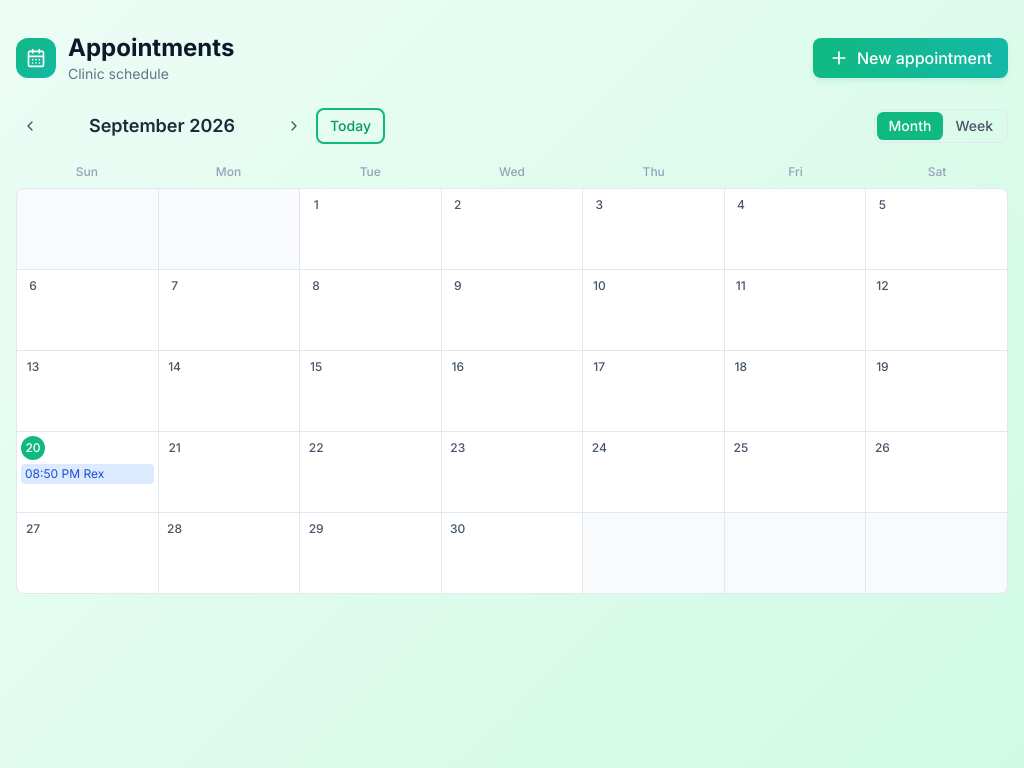
it: CalendarPage › opens the new appointment modal when New appointment is clicked
expect the heading "Appointments" is shown: met, box [68,32,234,64]
Click the button "New appointment" at point(910, 58), box [813,38,1008,78]
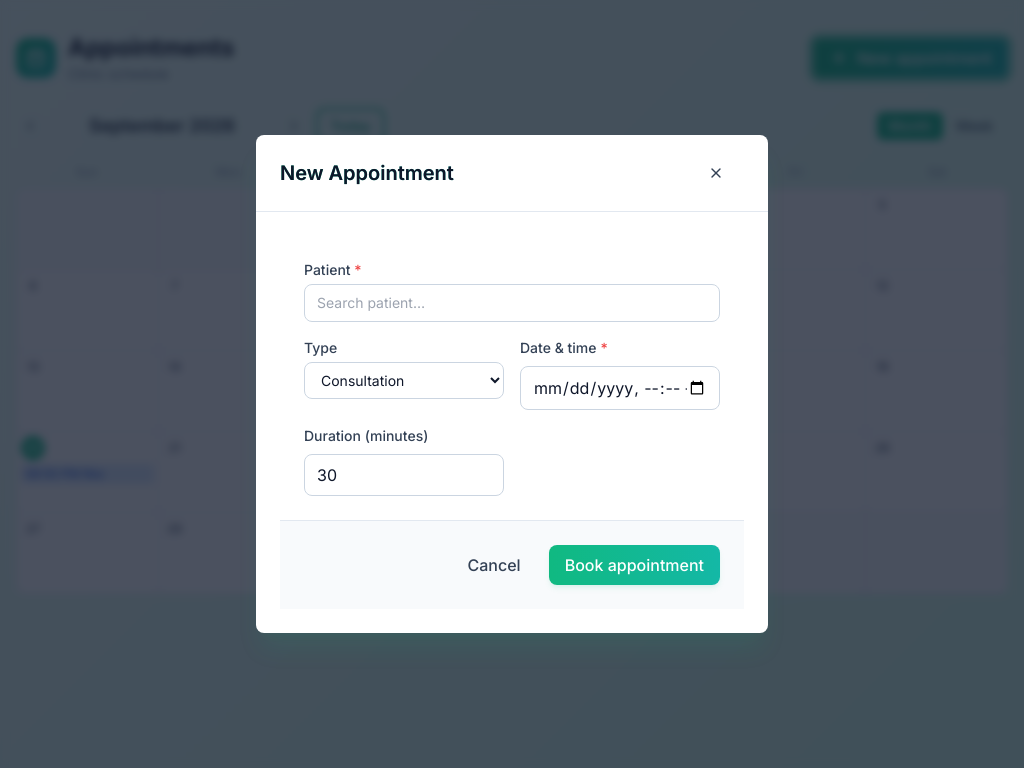
expect the heading "New Appointment" is shown: met, box [280,159,454,187]
